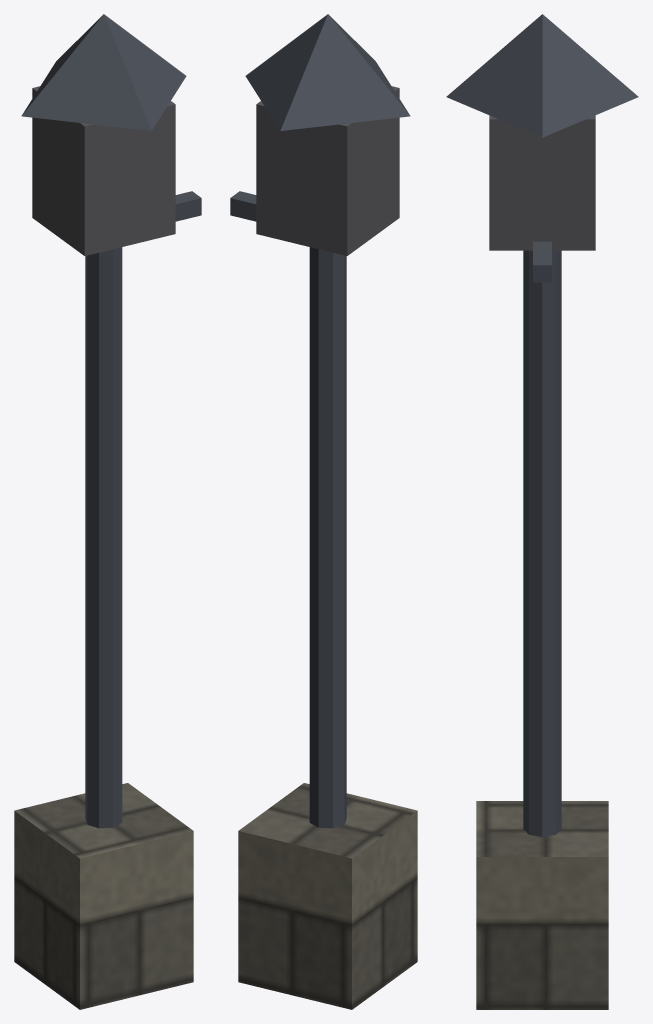
Rendered from ENV_C_Streetlamp_Dead.fbx.
3 renders of one model, left to right at view 1: azimuth 30°, elevation 25°; view 2: azimuth 150°, elevation 25°; view 3: azimuth 270°, elevation 25°, orthographic.
Visible parts, largest first — view 1: ENV_C_Streetlamp_Dead; view 2: ENV_C_Streetlamp_Dead; view 3: ENV_C_Streetlamp_Dead.
Part boxes in pixels (x1,y1,x2,y2): ENV_C_Streetlamp_Dead: [14, 14, 201, 1009]; ENV_C_Streetlamp_Dead: [230, 14, 417, 1009]; ENV_C_Streetlamp_Dead: [446, 14, 638, 1009].
Size of the model in its own units: 85 by 443 by 80.
Materials: 3 (1 with a texture image).
